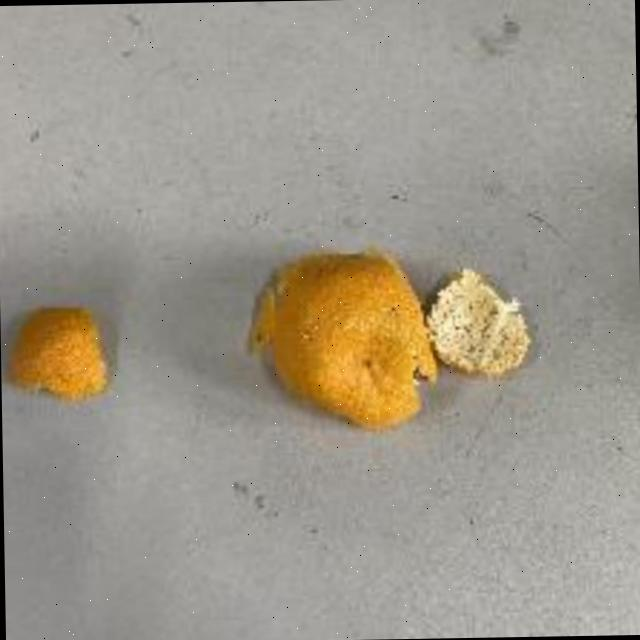orange-peel: (245, 243, 440, 432)
